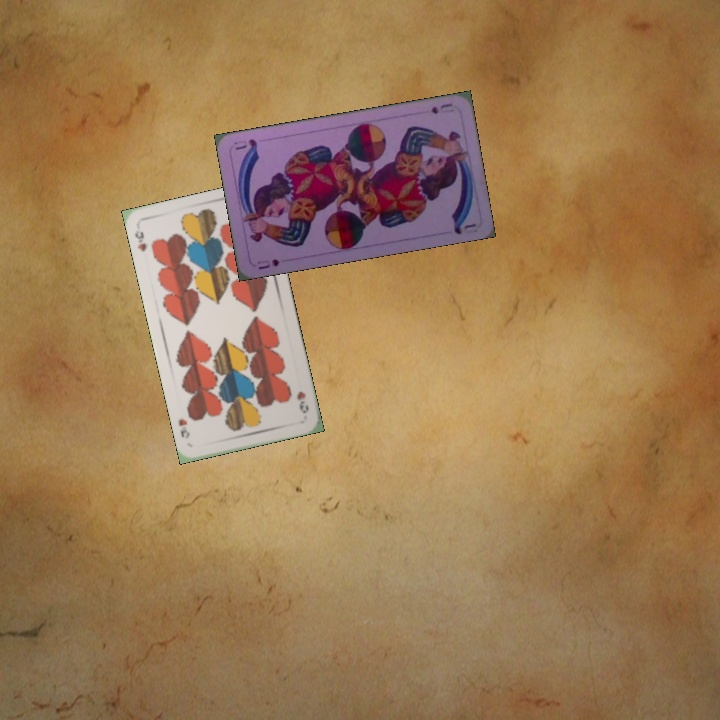H9: (130, 226, 150, 254), (293, 387, 311, 416)
SU: (427, 99, 456, 116), (253, 255, 282, 272)
